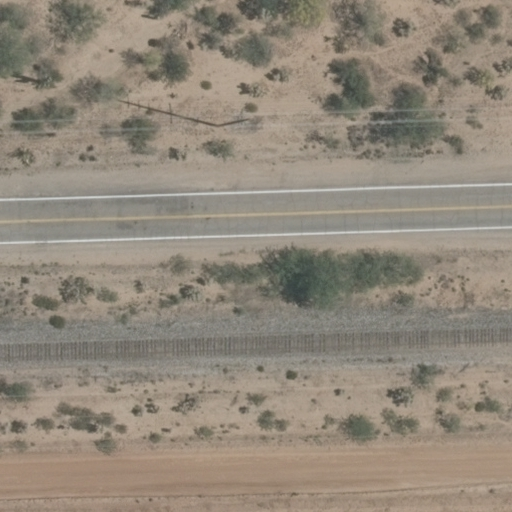DT: (217, 113, 250, 129)
